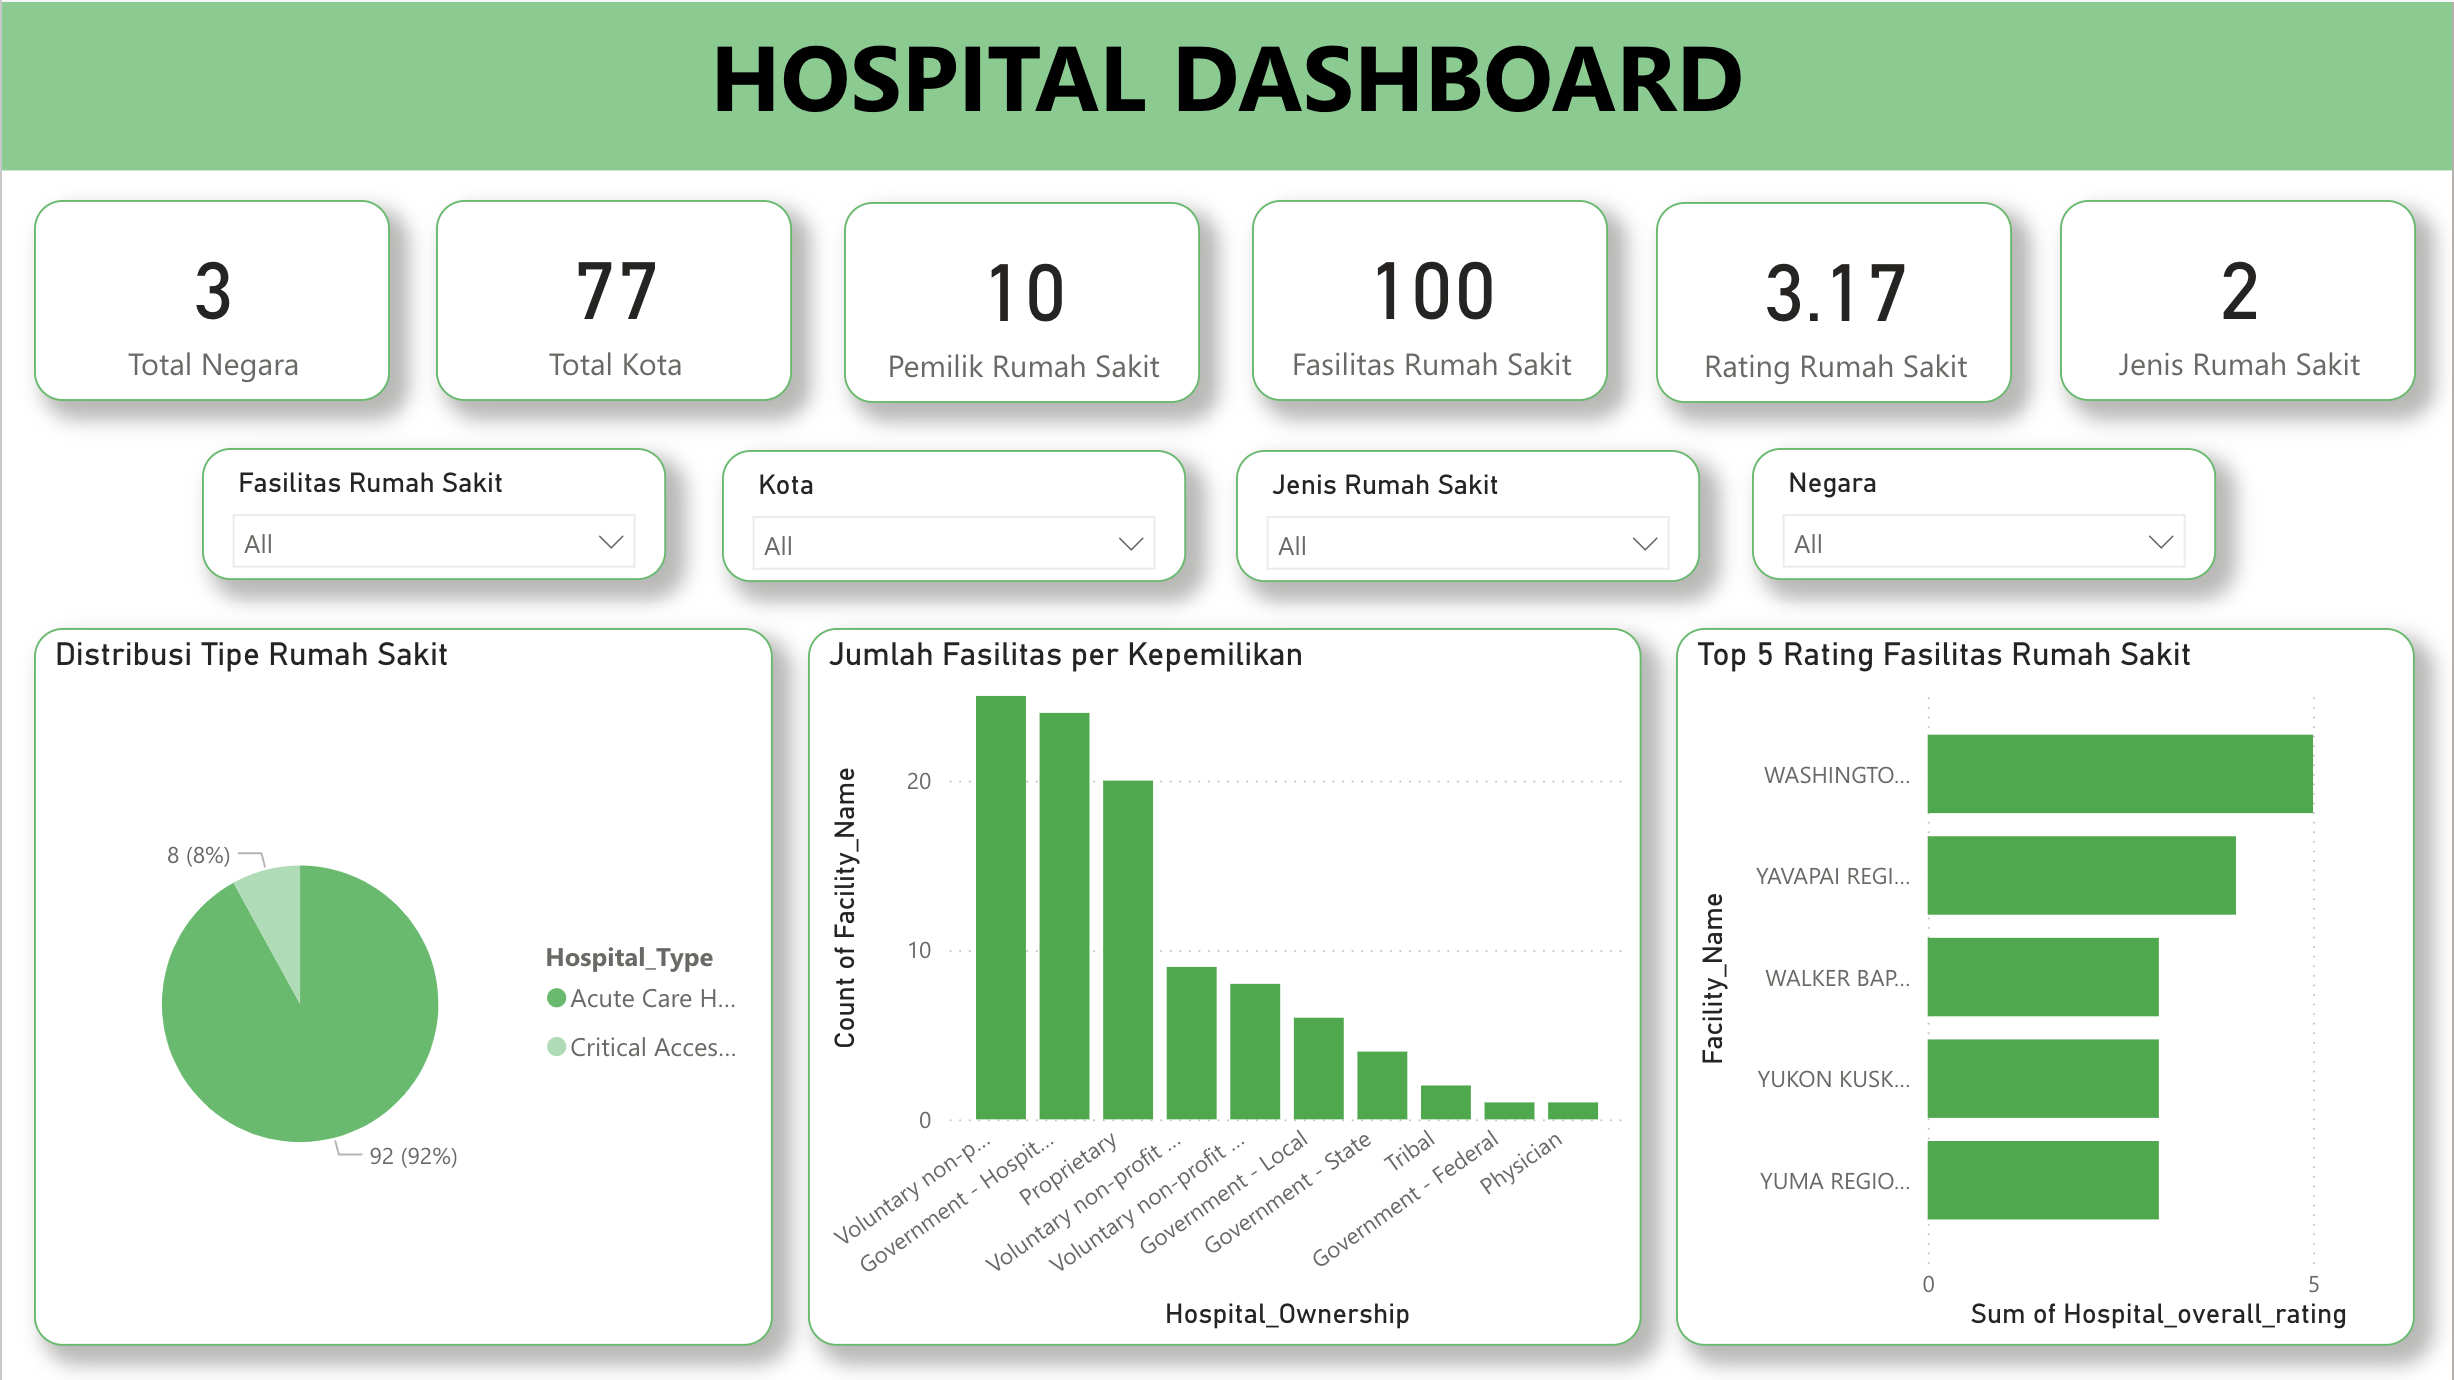

The dashboard page shown, as its layout file describes it:
{"tool":"powerbi","page":{"name":"OverView","canvas":[1280,720],"ordinal":0},"visuals":[{"type":"textbox","box":[0,0,1280,88.1],"z":0},{"type":"slicer","fields":{"Values":["Facility.City"]},"box":[376.4,233.8,242.5,68.8],"z":1000},{"type":"slicer","fields":{"Values":["Facility.Hospital_Type"]},"box":[644.2,233.8,242.5,68.8],"z":2000},{"type":"slicer","fields":{"Values":["Facility.State"]},"box":[914.5,232.6,242.5,68.8],"z":3000},{"type":"pieChart","title":"Distribusi Tipe Rumah Sakit","fields":{"Category":["Facility.Hospital_Type"],"Y":["CountNonNull(Facility.Facility_ID)"]},"box":[16.9,326.9,386.1,375.2],"z":4000},{"type":"card","fields":{"Values":["Count(Facility.Facility_Name)"]},"box":[652.7,103.8,185.8,105],"z":5000},{"type":"card","fields":{"Values":["Count(Facility.State)"]},"box":[16.7,103.5,185.8,105],"z":6000},{"type":"card","fields":{"Values":["Avg(Facility.Hospital_overall_rating)"]},"box":[863.8,105,185.8,105],"z":7000},{"type":"card","fields":{"Values":["Count(Facility.Hospital_Type)"]},"box":[1074.7,103.5,185.8,105],"z":8000},{"type":"card","fields":{"Values":["Count(Facility.Hospital_Ownership)"]},"box":[440.4,105,185.8,105],"z":9000},{"type":"slicer","fields":{"Values":["Facility.Facility_Name"]},"box":[105,232.6,242.5,68.8],"z":10000},{"type":"card","fields":{"Values":["Count(Facility.City)"]},"box":[226.8,103.8,185.8,105],"z":11000},{"type":"columnChart","title":"Jumlah Fasilitas per Kepemilikan","fields":{"Category":["Facility.Hospital_Ownership"],"Y":["CountNonNull(Facility.Facility_Name)"]},"box":[421,326.9,435.5,375.2],"z":12000},{"type":"barChart","title":"Top 5 Rating Fasilitas Rumah Sakit ","fields":{"Category":["Facility.Facility_Name"],"Y":["Sum(Facility.Hospital_overall_rating)"]},"box":[874.7,326.9,386.1,375.2],"z":13000}]}

Visuals, with their boxes in screenshot pixels (x1, y1, x2, y2), scaled from the page's 1280x720 canvas onto the 2454x1380 screenshot:
textbox: region(0, 0, 2453, 169)
slicer - Facility.City: region(722, 448, 1187, 580)
slicer - Facility.Hospital_Type: region(1235, 448, 1700, 580)
slicer - Facility.State: region(1753, 446, 2218, 578)
"Distribusi Tipe Rumah Sakit" pieChart: region(32, 627, 773, 1346)
card - Count(Facility.Facility_Name): region(1251, 199, 1608, 400)
card - Count(Facility.State): region(32, 198, 388, 400)
card - Avg(Facility.Hospital_overall_rating): region(1656, 201, 2012, 402)
card - Count(Facility.Hospital_Type): region(2060, 198, 2417, 400)
card - Count(Facility.Hospital_Ownership): region(844, 201, 1201, 402)
slicer - Facility.Facility_Name: region(201, 446, 666, 578)
card - Count(Facility.City): region(435, 199, 791, 400)
"Jumlah Fasilitas per Kepemilikan" columnChart: region(807, 627, 1642, 1346)
"Top 5 Rating Fasilitas Rumah Sakit " barChart: region(1677, 627, 2417, 1346)
